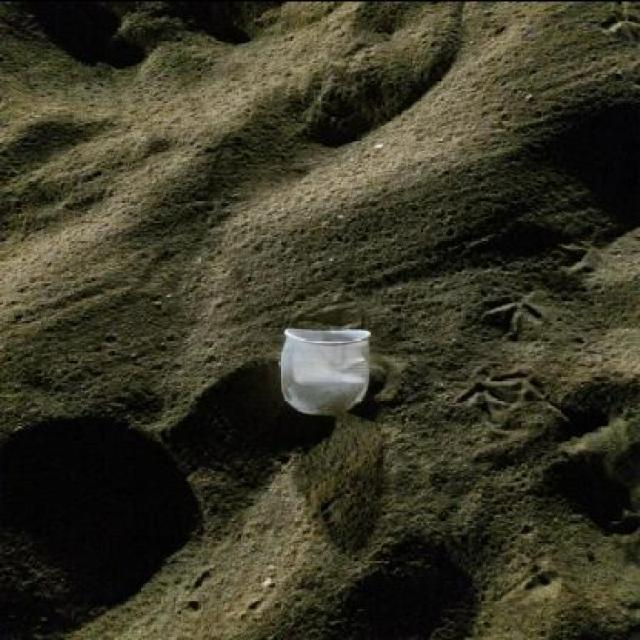plastic: (278, 324, 371, 414)
